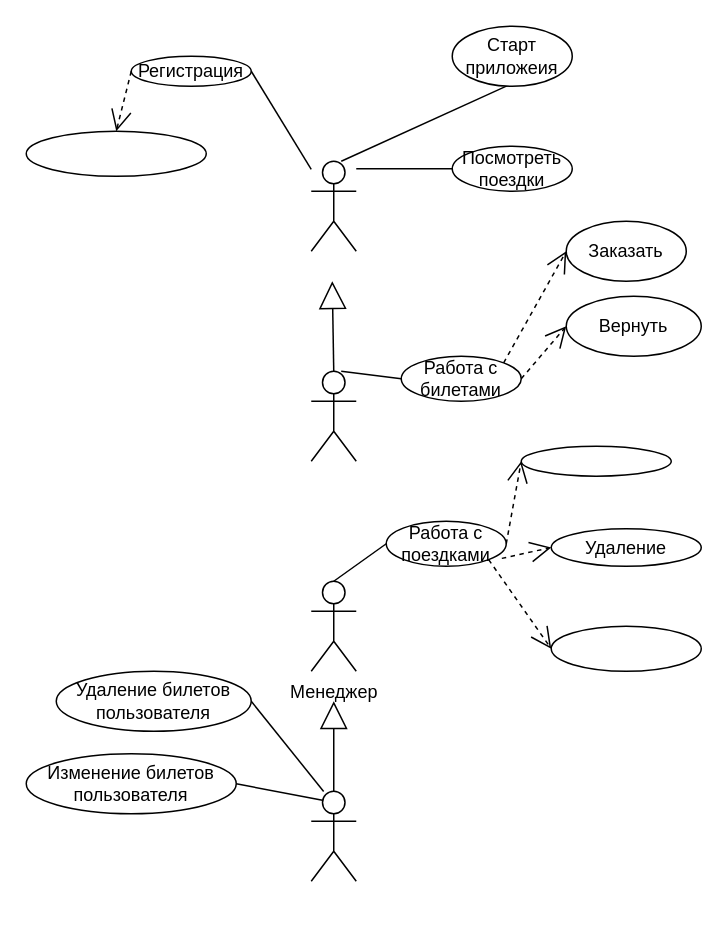
This 728x939 diagram has some shape labels left out. Here are the shapes that lost their labels. From the top down, the centre of each, then its label:
the point at 115,153: Подтверждение номера
the point at 333,205: Пользователь
the point at 333,415: Авторизированный
the point at 595,460: Создание
the point at 625,648: Редактирование
the point at 333,835: Администратор
